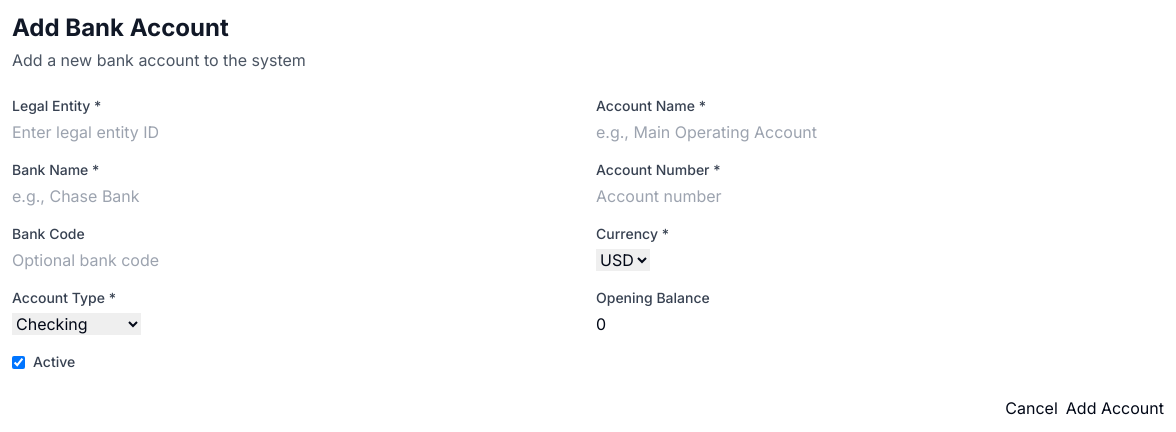
Test: BankAccountFormPage - Comprehensive Tests › Form Fields › should allow entering opening balance
Type "50000.50" into the number field labelled "Opening Balance".
click(713, 324); type("50000.50")  # box [596,312,830,336]
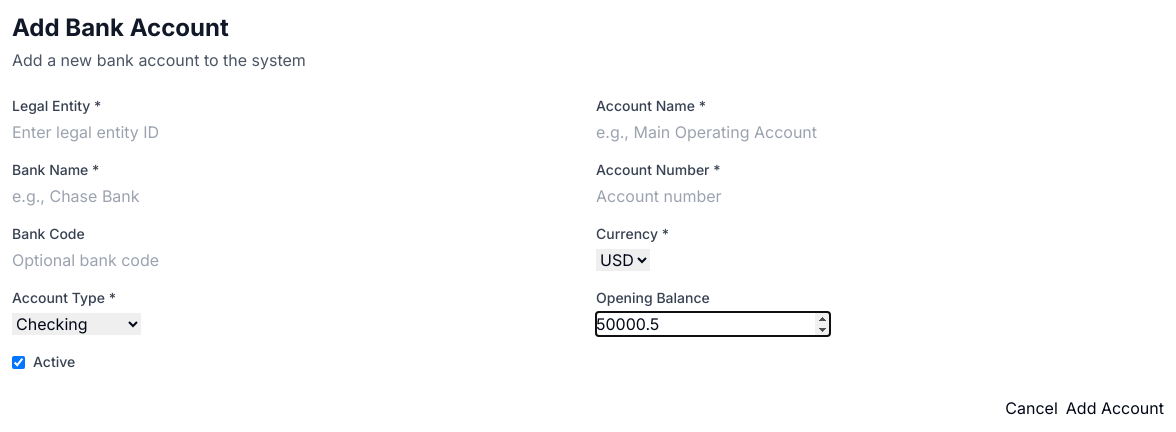
Check: the number field labelled "Opening Balance" holds "50000.5", box [596,312,830,336]
